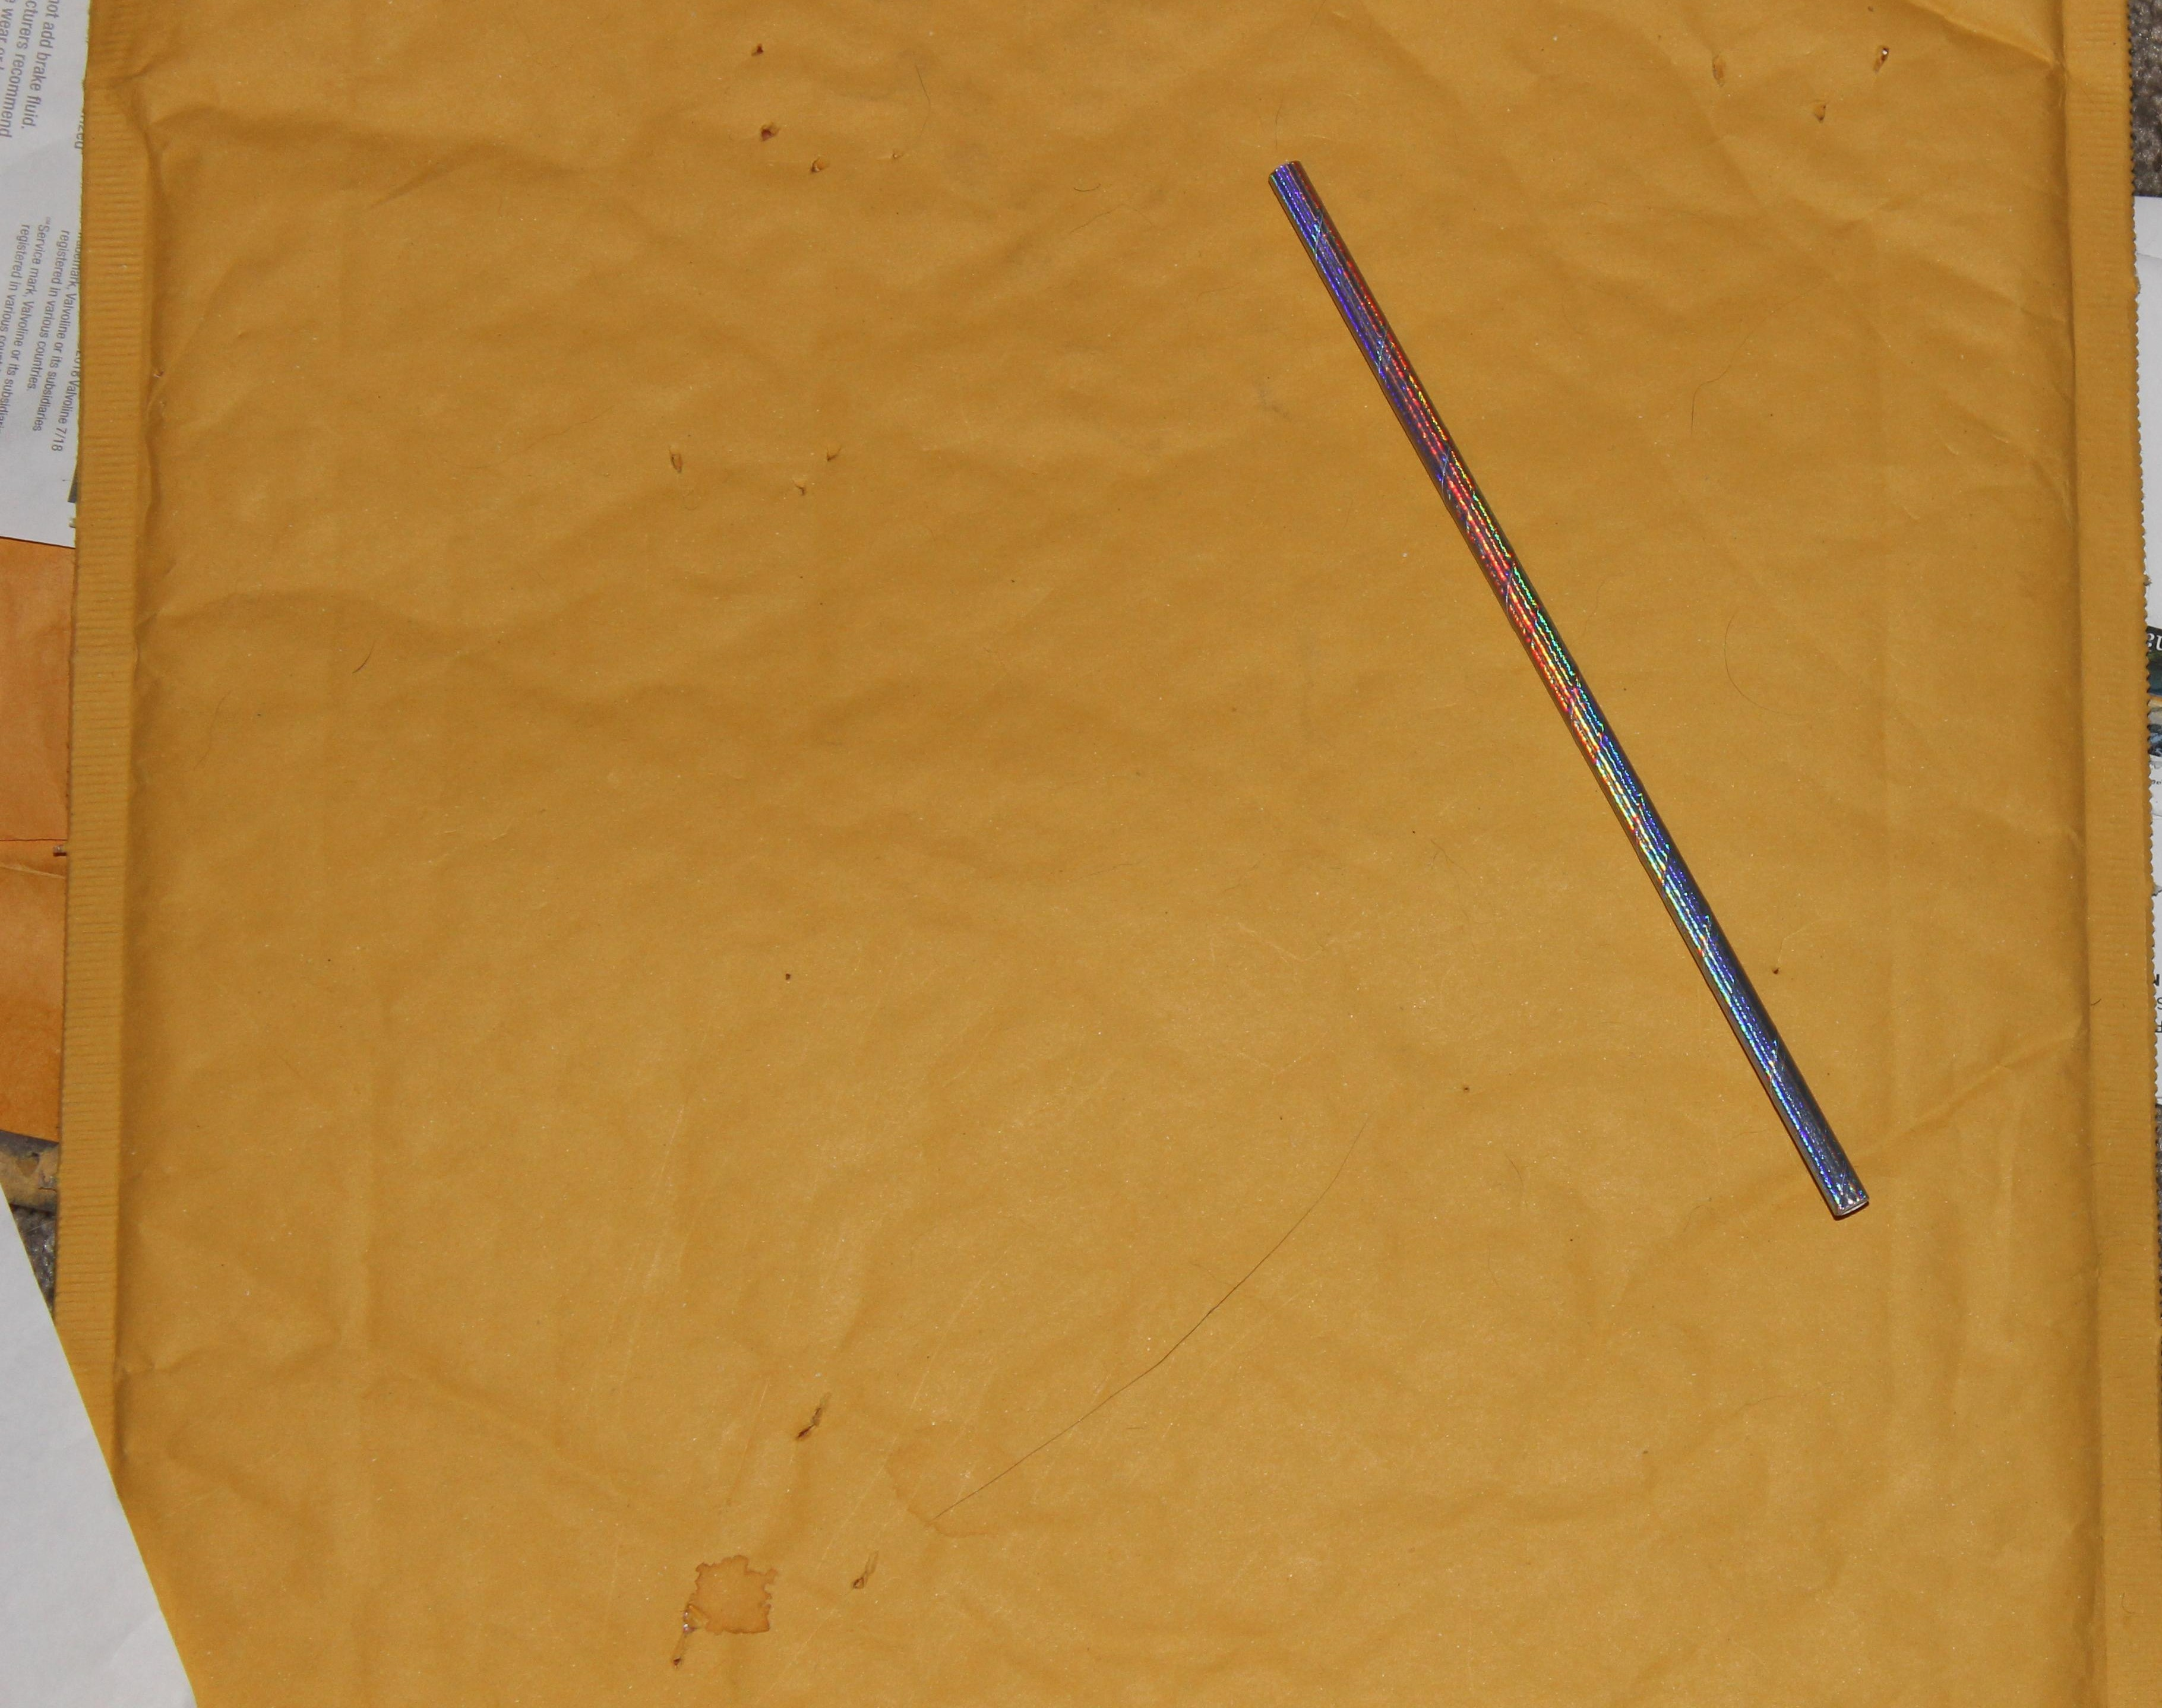silverStraw: (1251, 128, 1895, 1257)
